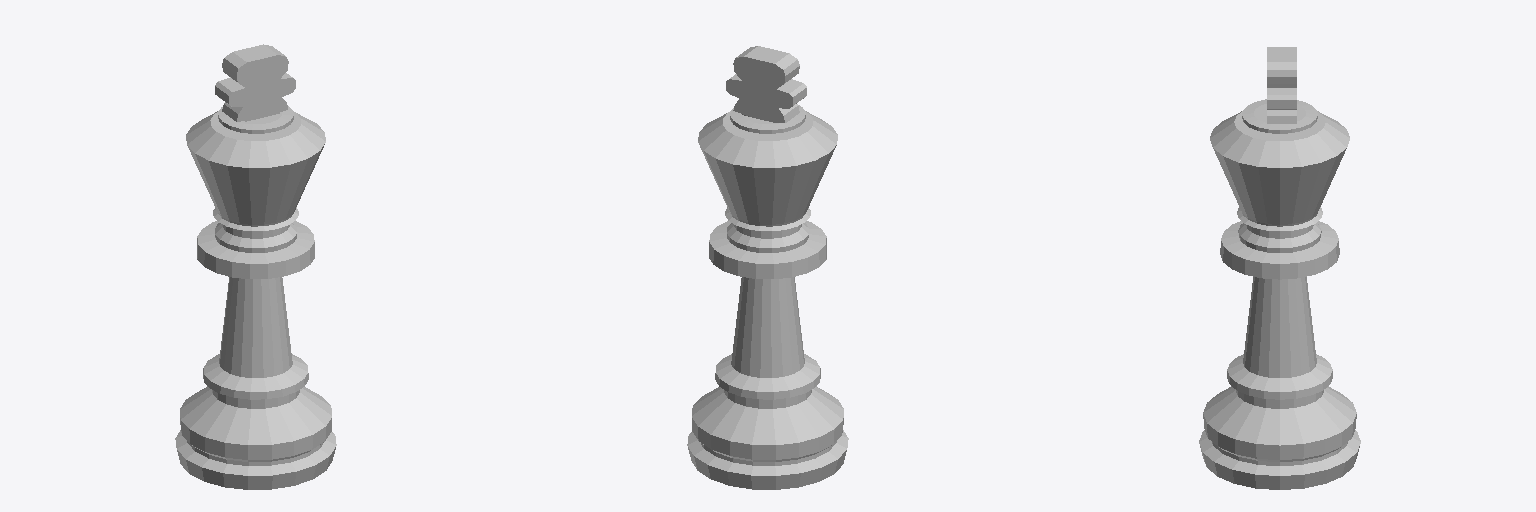
File: whiteKing.obj
3 renders of one model, left to right at view 1: azimuth 30°, elevation 25°; view 2: azimuth 150°, elevation 25°; view 3: azimuth 270°, elevation 25°, orthographic.
Parts seen in each view (by area): view 1: pCylinder15; view 2: pCylinder15; view 3: pCylinder15.
Boxes of the visible parts, x1=… form: pCylinder15: x1=175, y1=44, x2=336, y2=489; pCylinder15: x1=687, y1=46, x2=848, y2=489; pCylinder15: x1=1199, y1=47, x2=1360, y2=489.
Bounding box in the file's own units: 0.9482 × 2.6 × 0.9482.